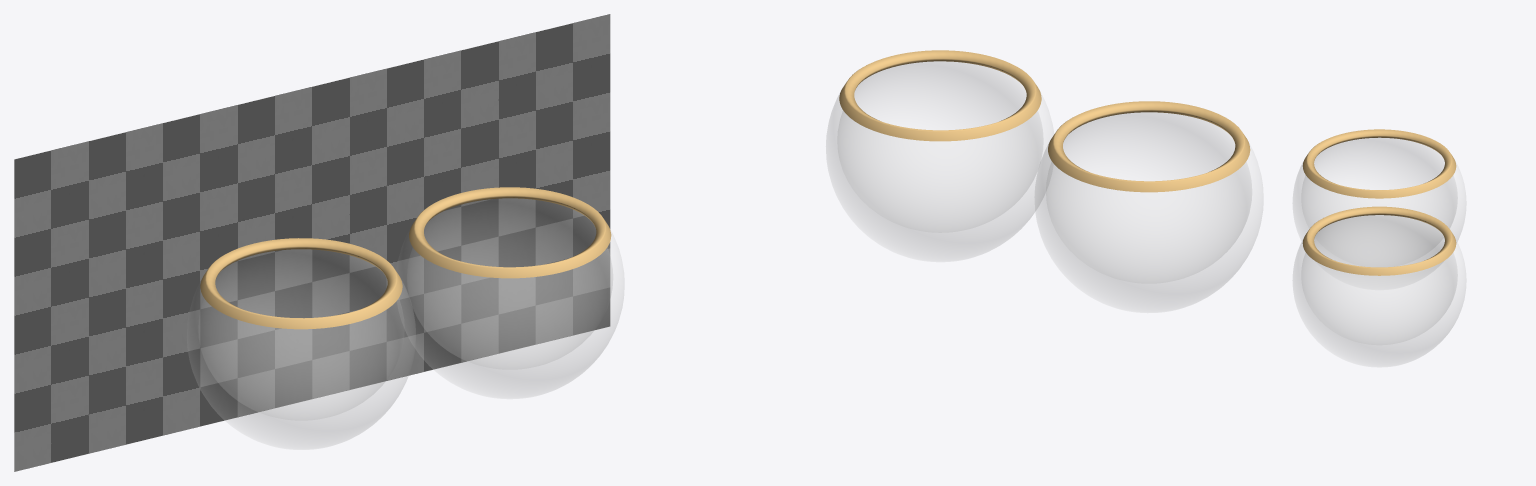
The model's file is Compare_Volume.gltf.
The picture shows the model from 3 angles, left to right: view 1: azimuth 30°, elevation 25°; view 2: azimuth 150°, elevation 25°; view 3: azimuth 270°, elevation 25°; orthographic projection. The views are drawn at different scales.
Visible parts, largest first — view 1: Checker, Sphere001, Sphere002; view 2: Sphere001, Sphere002; view 3: Sphere002, Sphere001.
Part boxes in pixels (<box>): Checker: <box>14,14,610,471</box>; Sphere001: <box>187,238,415,449</box>; Sphere002: <box>396,187,624,398</box>; Sphere001: <box>1034,101,1263,312</box>; Sphere002: <box>826,50,1053,261</box>; Sphere002: <box>1292,206,1466,367</box>; Sphere001: <box>1292,129,1466,266</box>.
Bounding box in the file's own units: 3 × 1.5 × 1.32.
Materials: 4 (1 with a texture image).
